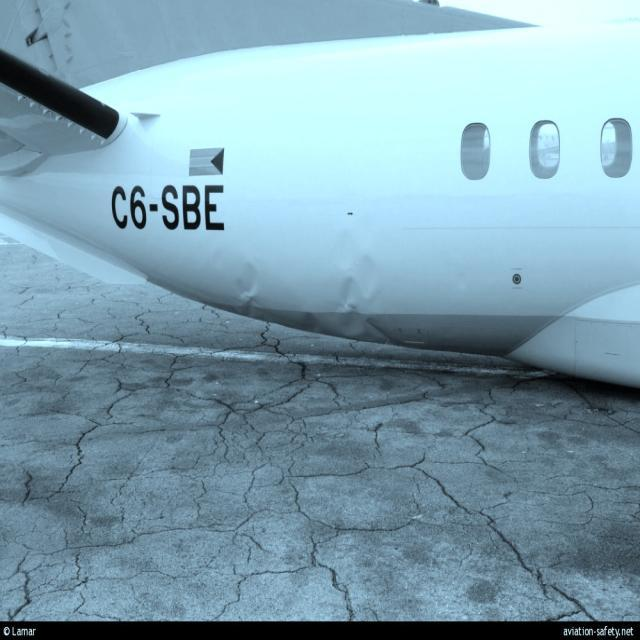dent: (331, 248, 378, 339), (231, 256, 261, 320)
